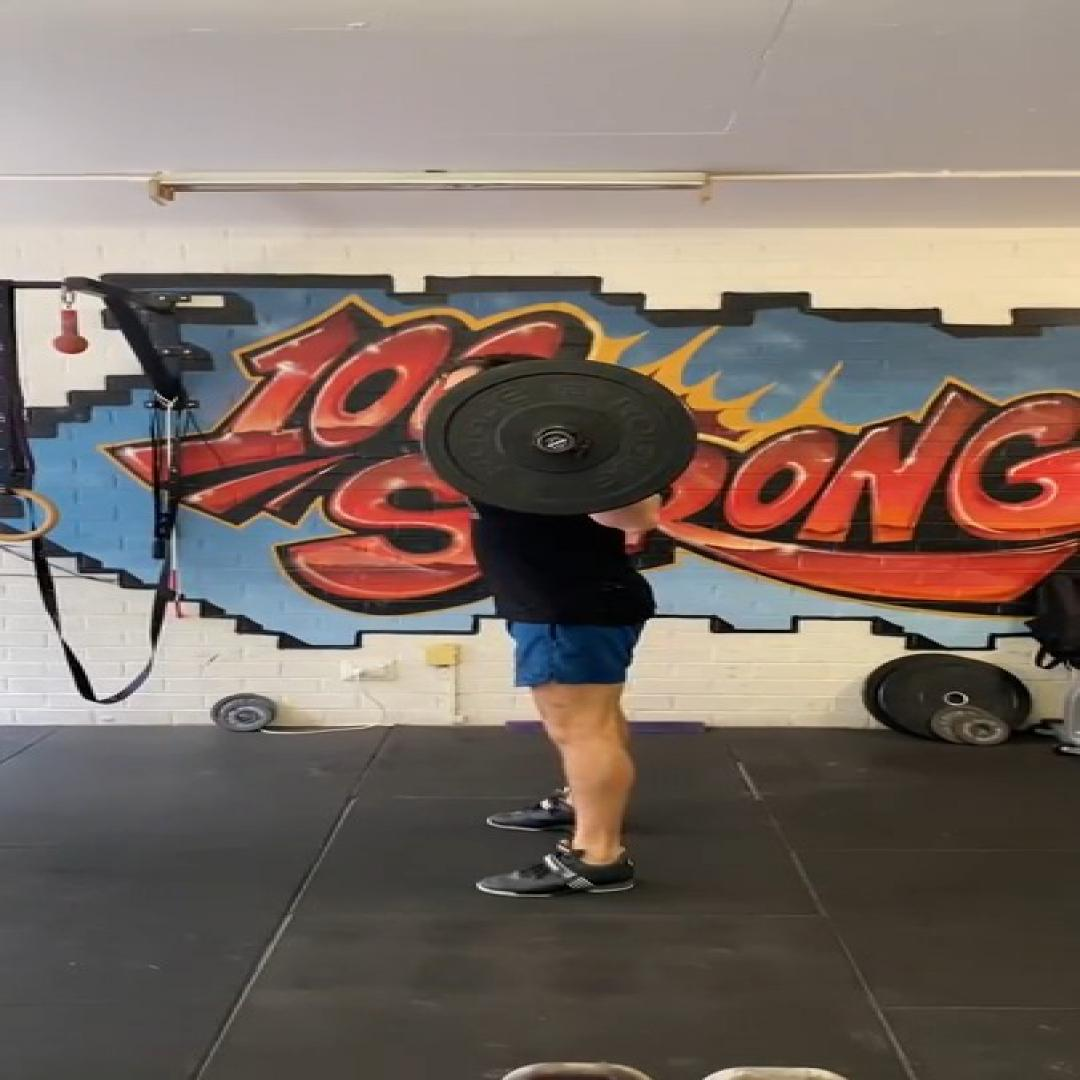Bar: (532, 429, 577, 455)
Barbell: (421, 356, 696, 516)
